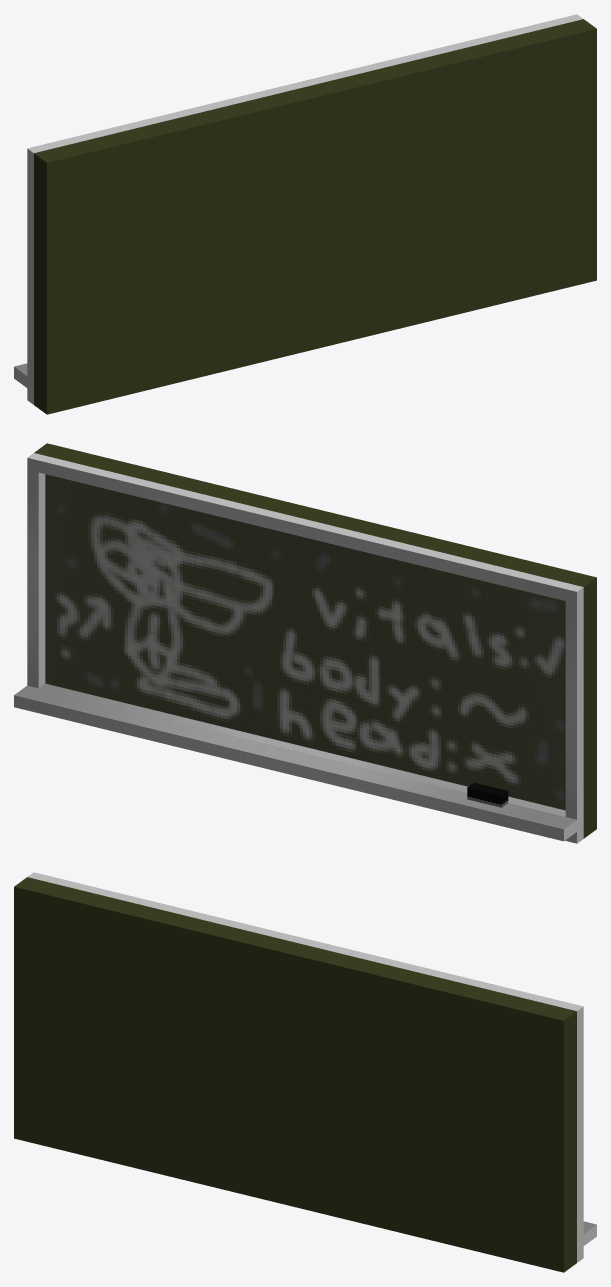
File: blackboard.gltf
3 renders of one model, top to bottom at view 1: azimuth 30°, elevation 25°; view 2: azimuth 150°, elevation 25°; view 3: azimuth 330°, elevation 25°, orthographic.
Parts seen in each view (by area): view 1: cube (×3); view 2: cube (×7); view 3: cube (×3).
Part boxes in pixels (x1,y1,x2,y2): cube (×3): (27, 17, 596, 414); cube (×7): (14, 443, 596, 843); cube (×3): (14, 872, 583, 1272).
Bounding box in the file's own units: 3 × 1.31 × 0.3125.
1 material, 1 textured.
